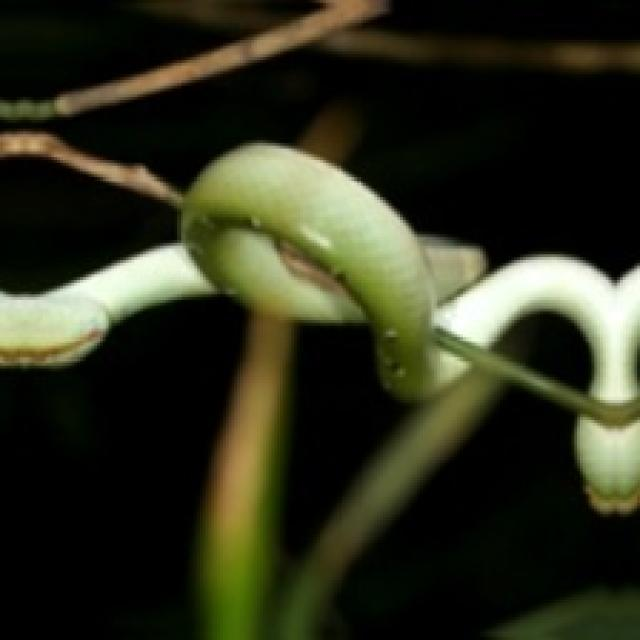north ph temple pitviper: (0, 143, 637, 400), (180, 143, 637, 400), (343, 380, 480, 520), (574, 417, 637, 509)
